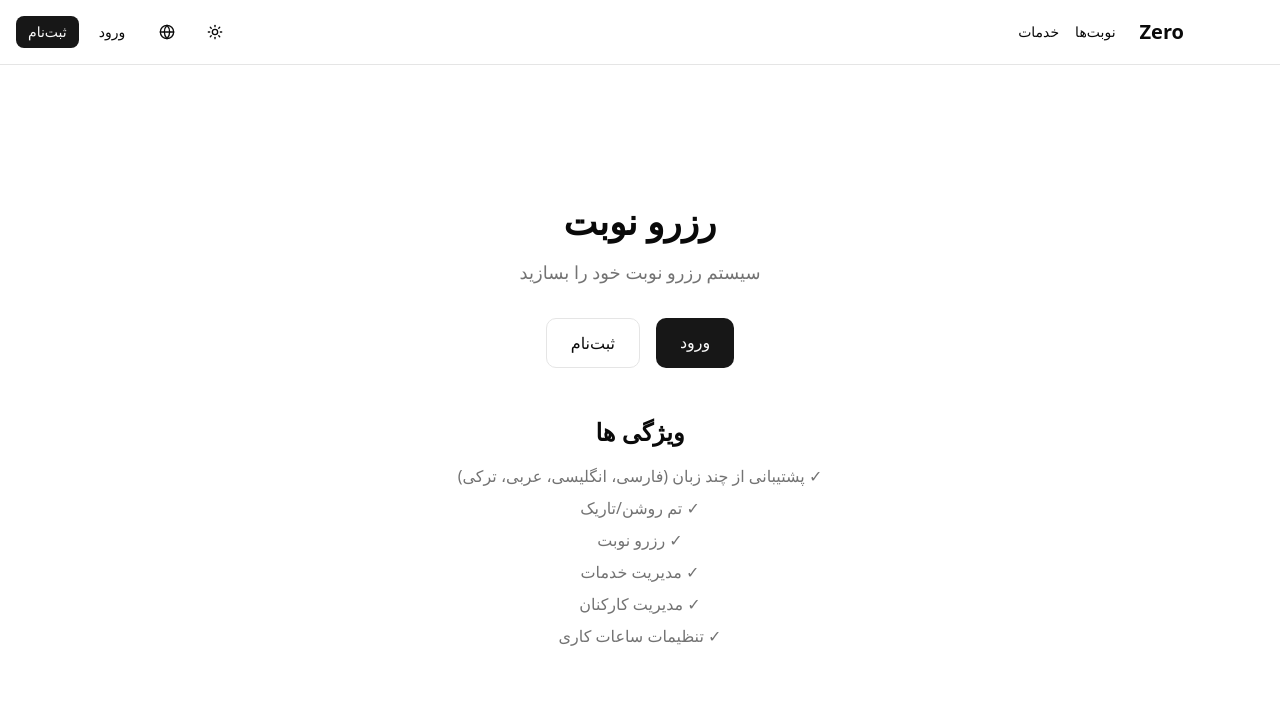
Test: Appointment Booking Application - Comprehensive E2E Tests › Public Pages Navigation › should navigate to sign in page
# Click on Sign In button
Click the link "ورود" in the row of "نوبت‌ها" at (113, 32), box [99,22,126,41]
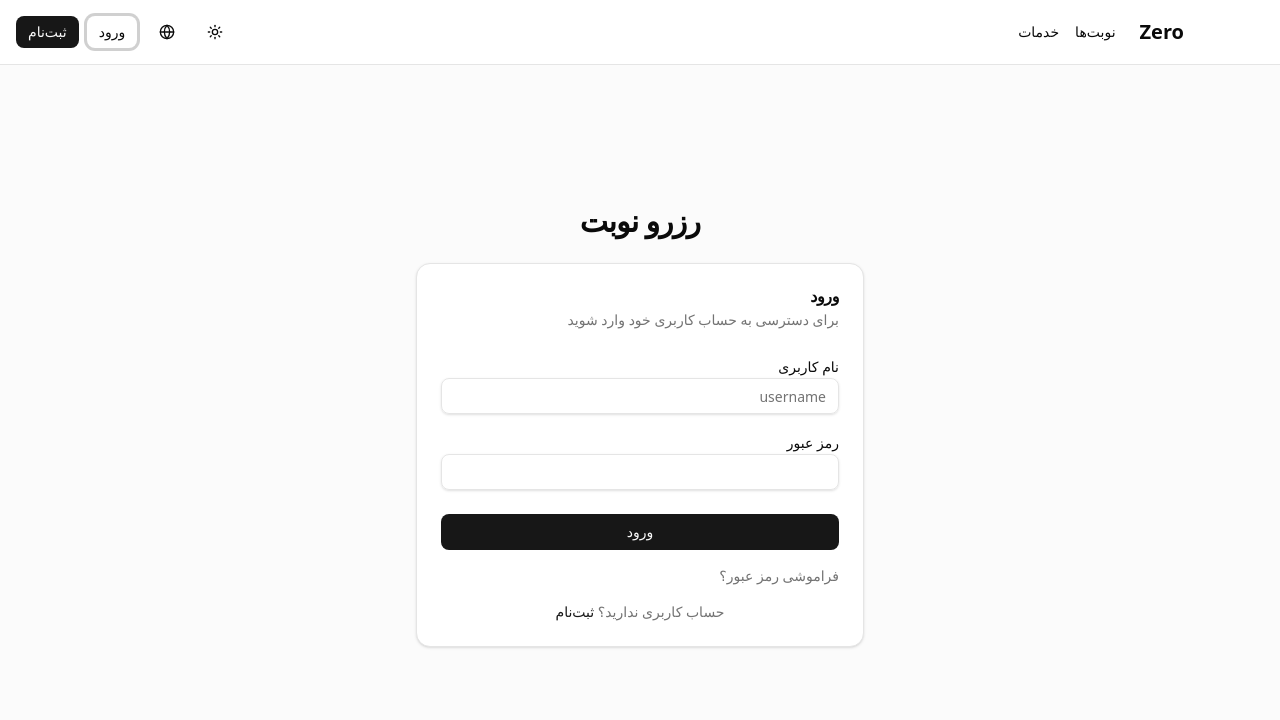
Now the text "نام کاربری" is shown, box [778,357,839,376]
Now the text "رمز عبور" is shown, box [787,433,839,452]
